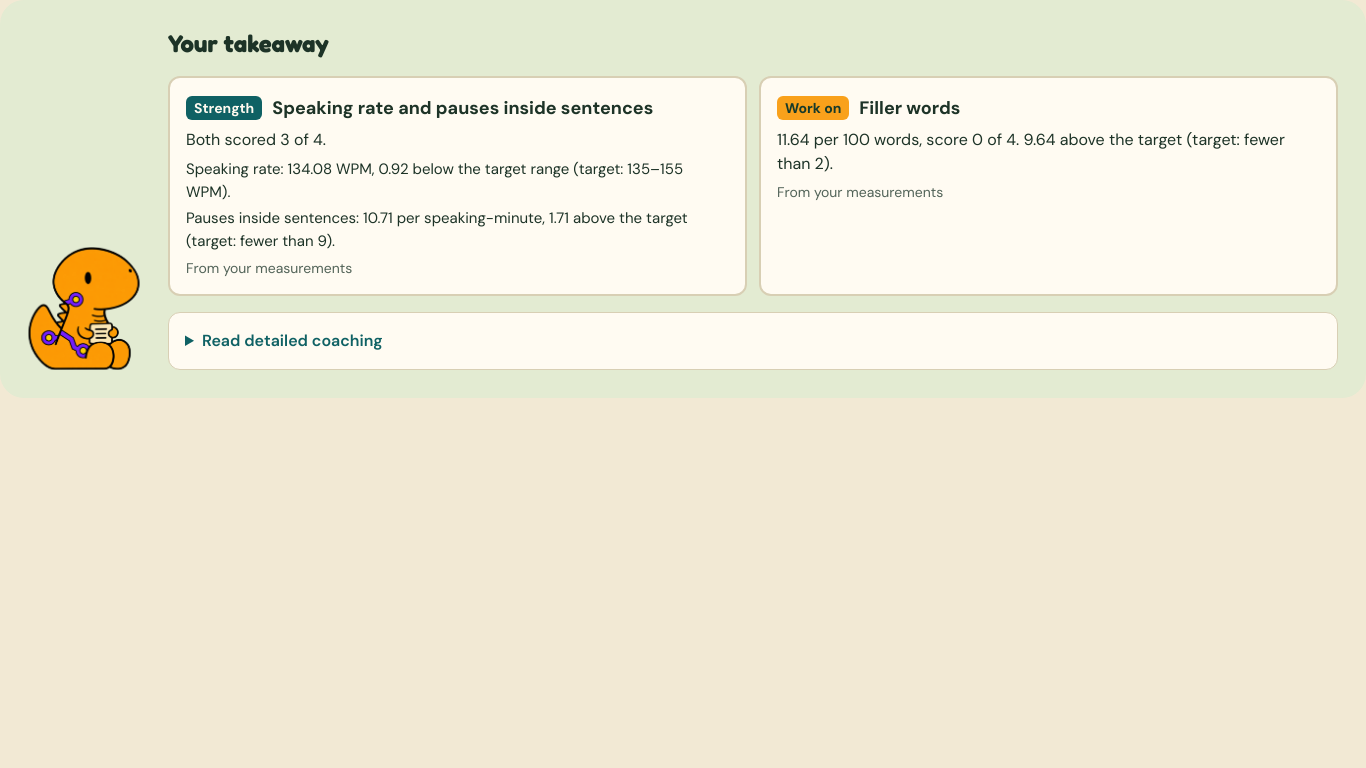
Test case: Takeaway › keeps legacy Markdown coaching readable without flooding the takeaway
Click the heading "Read detailed coaching".
click(292, 340)  # box 202,330 -> 383,351
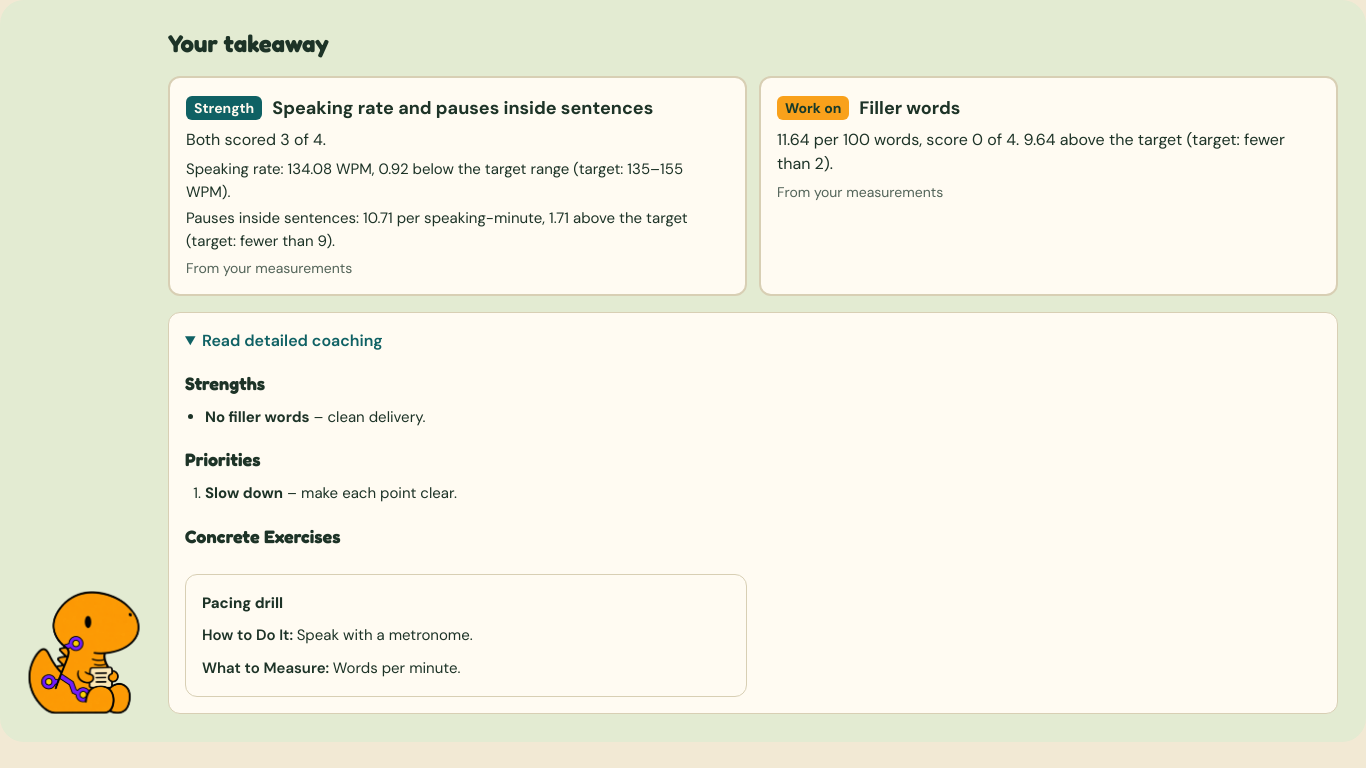
Check: the heading "Strengths" is shown, box 185,372 -> 265,394
Check: the heading "Pacing drill" is shown, box 202,593 -> 283,613
Check: the element "Your takeaway" no longer shows "|---|"
